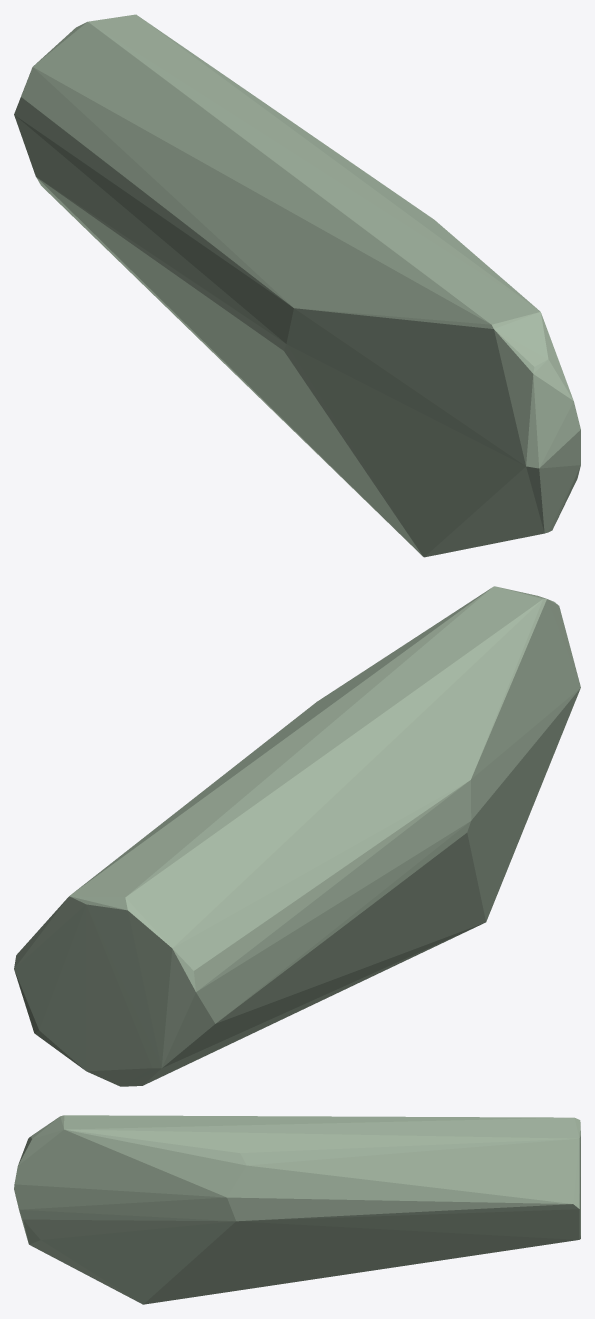
Rendered from disinfectant_a01.glb.
3 renders of one model, top to bottom at view 1: azimuth 30°, elevation 25°; view 2: azimuth 150°, elevation 25°; view 3: azimuth 270°, elevation 25°, orthographic. The views are drawn at different scales.
Visible parts, largest first — view 1: geometry_0; view 2: geometry_0; view 3: geometry_0.
Part boxes in pixels (bbox=[...]): geometry_0: bbox=[14, 14, 580, 557]; geometry_0: bbox=[14, 586, 580, 1086]; geometry_0: bbox=[14, 1115, 580, 1304].
Size of the model in its own units: 0.1114 by 0.1605 by 0.4776.
